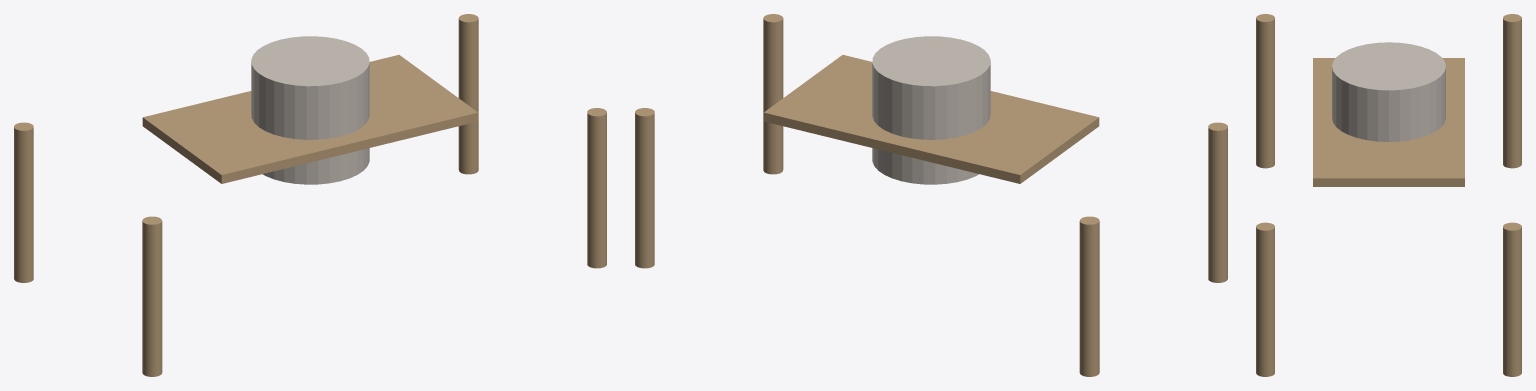
Rendered from fermentation_pot.glb.
The picture shows the model from 3 angles, left to right: view 1: azimuth 30°, elevation 25°; view 2: azimuth 150°, elevation 25°; view 3: azimuth 270°, elevation 25°; orthographic projection. The views are drawn at different scales.
Parts seen in each view (by area): view 1: bench_top, fermentation_pot, bench_leg_-1.3_-0.65, bench_leg_1.3_-0.65, bench_leg_-1.3_0.65, bench_leg_1.3_0.65; view 2: bench_top, fermentation_pot, bench_leg_-1.3_0.65, bench_leg_1.3_0.65, bench_leg_-1.3_-0.65, bench_leg_1.3_-0.65; view 3: bench_top, fermentation_pot, bench_leg_1.3_0.65, bench_leg_1.3_-0.65, bench_leg_-1.3_0.65, bench_leg_-1.3_-0.65.
Boxes of the visible parts, x1=… form: bench_top: x1=142, y1=55, x2=478, y2=183; fermentation_pot: x1=251, y1=36, x2=369, y2=184; bench_leg_-1.3_-0.65: x1=142, y1=216, x2=162, y2=376; bench_leg_1.3_-0.65: x1=587, y1=108, x2=606, y2=268; bench_leg_-1.3_0.65: x1=14, y1=122, x2=33, y2=282; bench_leg_1.3_0.65: x1=458, y1=14, x2=478, y2=174; bench_top: x1=763, y1=55, x2=1099, y2=183; fermentation_pot: x1=872, y1=36, x2=990, y2=184; bench_leg_-1.3_0.65: x1=1079, y1=216, x2=1099, y2=376; bench_leg_1.3_0.65: x1=635, y1=108, x2=654, y2=268; bench_leg_-1.3_-0.65: x1=1208, y1=122, x2=1227, y2=282; bench_leg_1.3_-0.65: x1=763, y1=14, x2=783, y2=174; bench_top: x1=1313, y1=58, x2=1464, y2=186; fermentation_pot: x1=1332, y1=42, x2=1445, y2=141; bench_leg_1.3_0.65: x1=1503, y1=222, x2=1521, y2=376; bench_leg_1.3_-0.65: x1=1256, y1=222, x2=1274, y2=376; bench_leg_-1.3_0.65: x1=1503, y1=14, x2=1521, y2=168; bench_leg_-1.3_-0.65: x1=1256, y1=14, x2=1274, y2=168.
Bounding box in the file's own units: 2.7 × 1.17 × 1.4.
